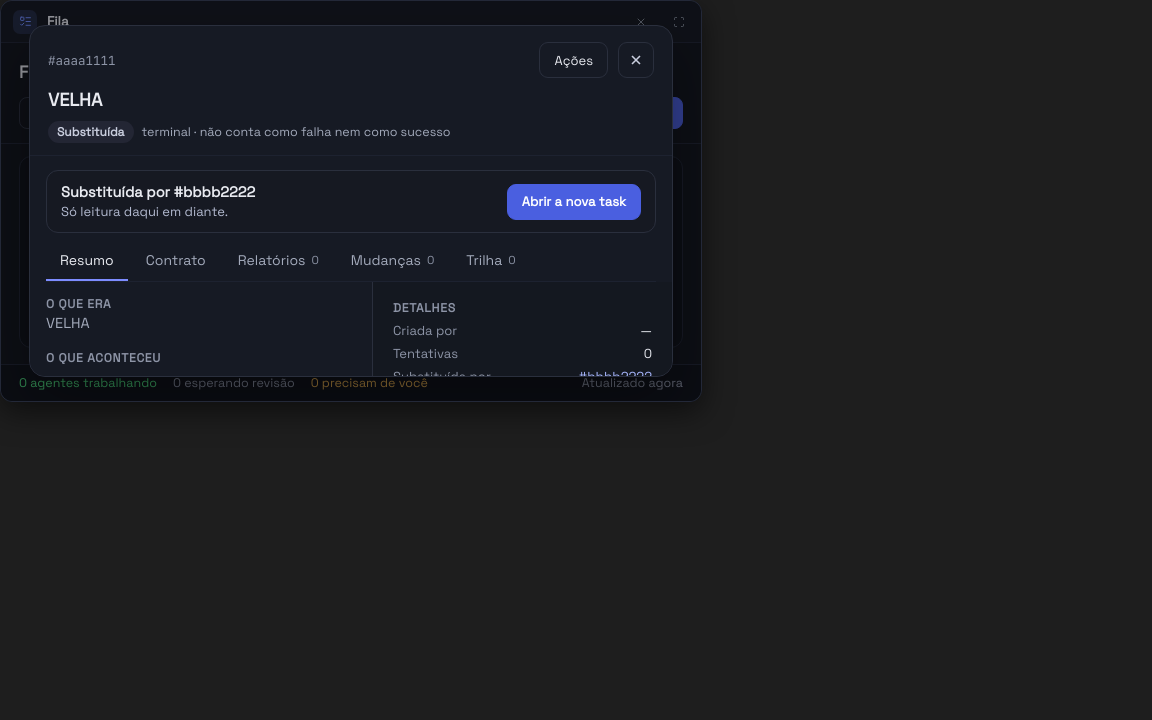
it: superseded na Fila V3 › Abrir a nova task no detalhe abre o modal da SUBSTITUTA (pelo prompt)
The image size is (1152, 720).
Click the button "Abrir a nova task".
click(574, 202)  # box x1=507 y1=184 x2=641 y2=220
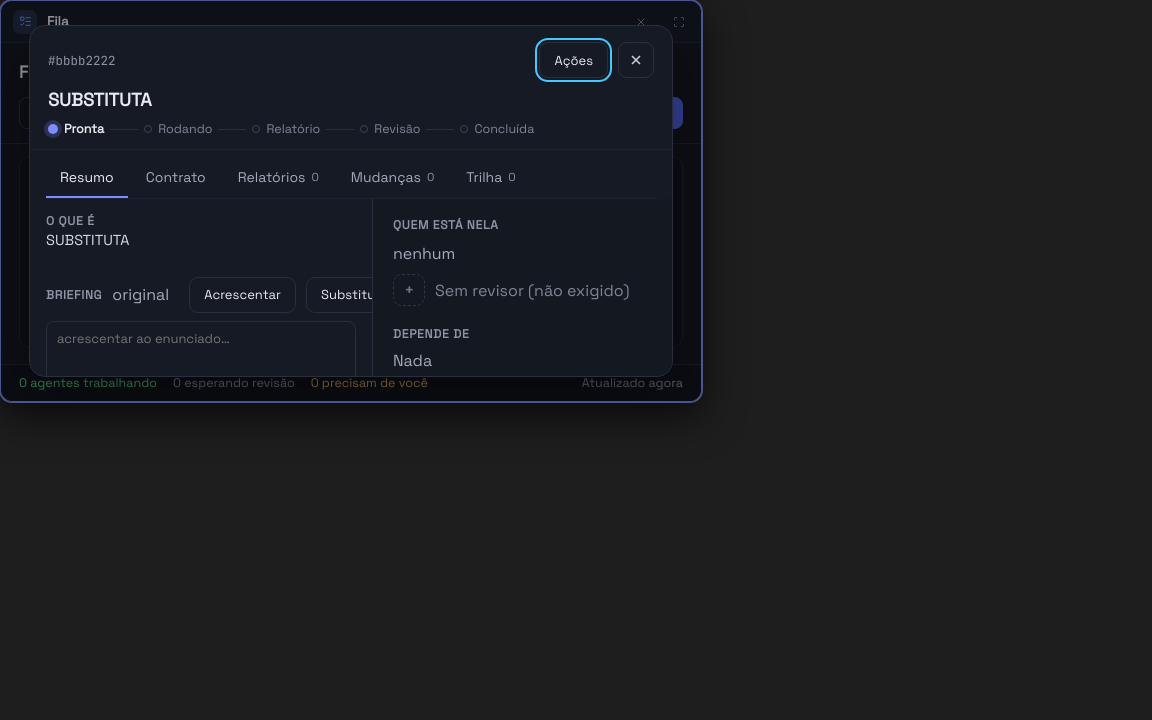
Check: the text "SUBSTITUTA" is shown, box x1=46 y1=231 x2=129 y2=249
Check: the heading "VELHA" no longer shows "VELHA"
